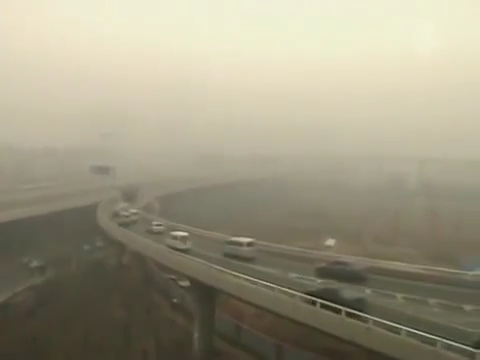car: (305, 282, 367, 316), (313, 257, 369, 281), (223, 236, 257, 261), (166, 231, 192, 251), (147, 220, 164, 234), (117, 211, 130, 227), (128, 208, 139, 223)
